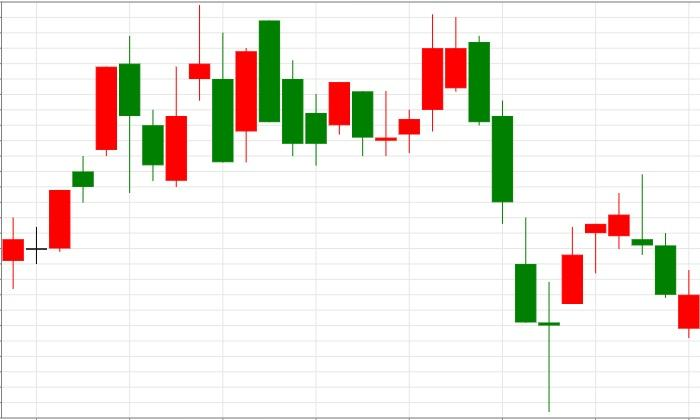morning_star_rise: (468, 35, 583, 413)
